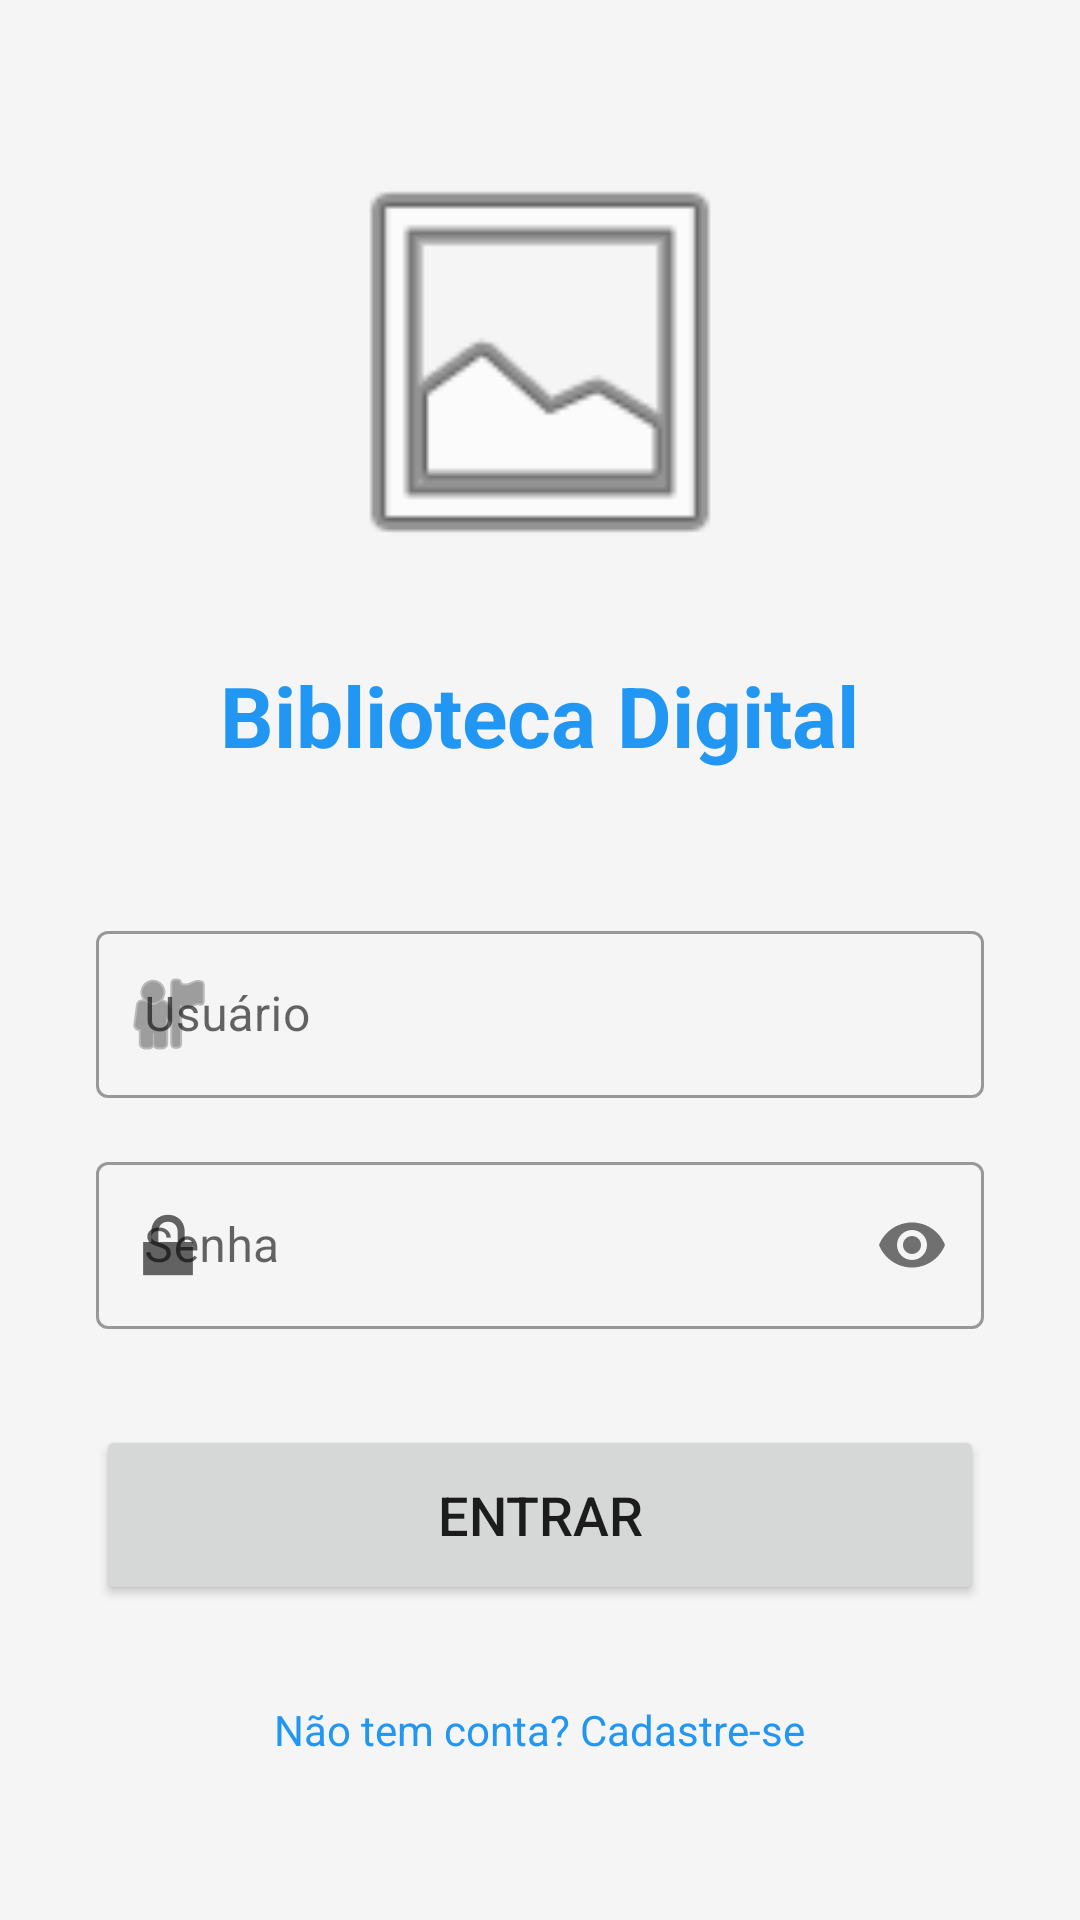

Named icons in this screenshot (1080×1920) and their bounding boxes, (x1, y1, x2, y2):
gallery: (370, 192, 710, 532)
